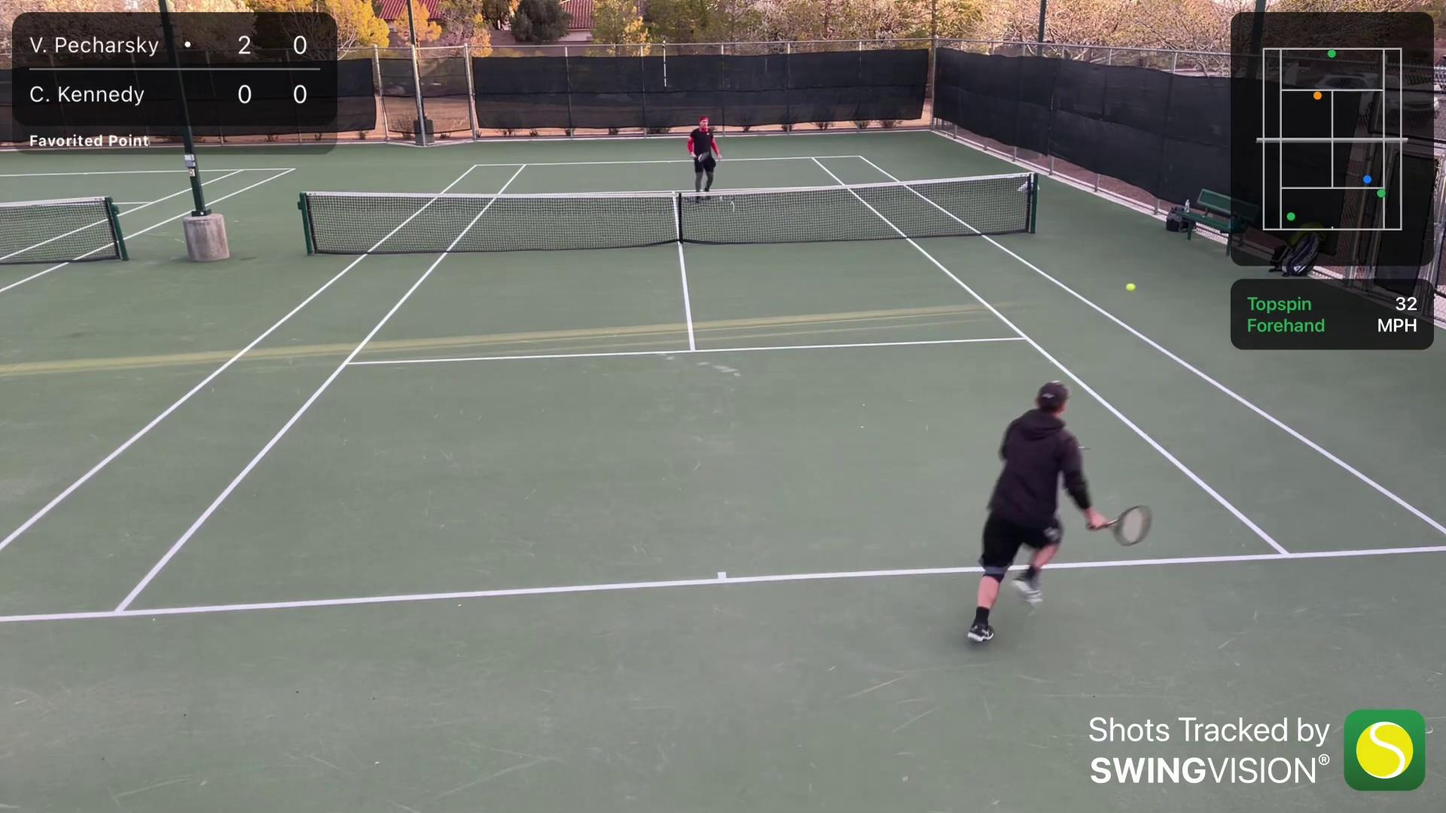ball: (1123, 280, 1140, 294)
